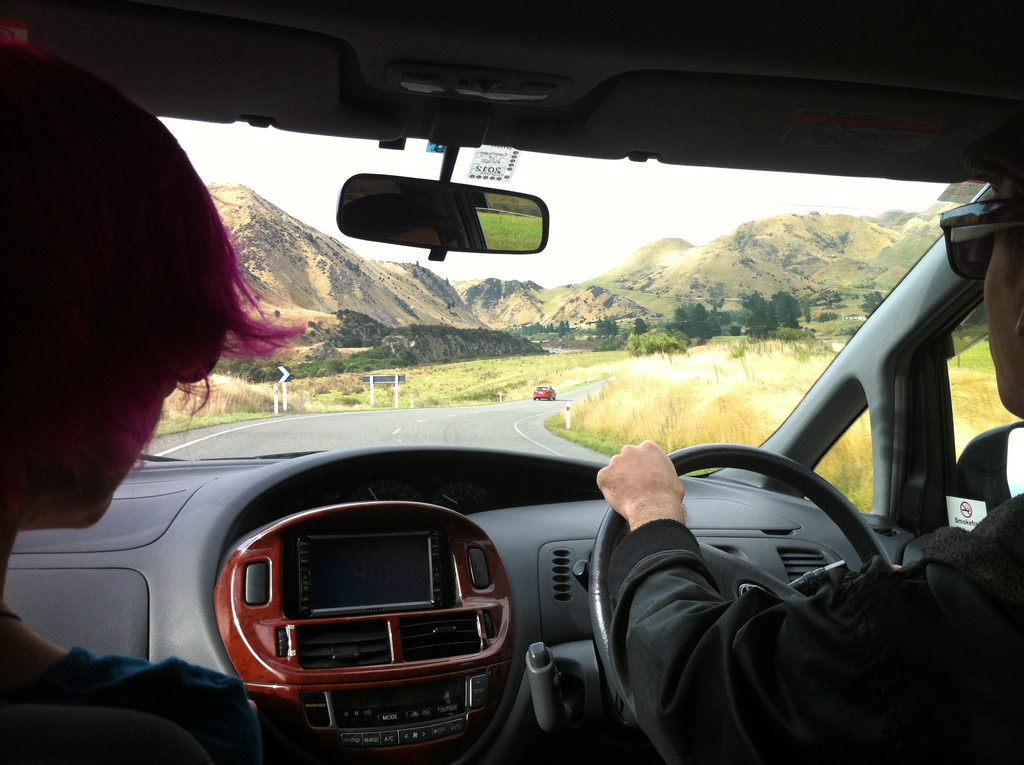Car: (0, 0, 1023, 764), (531, 383, 558, 398)
